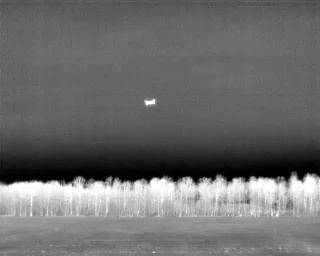DRONE: (140, 94, 161, 110)
